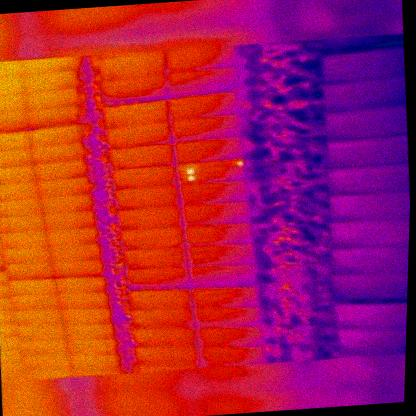Hotspot: (176, 155, 248, 186)
Normal: (168, 111, 244, 145), (162, 43, 239, 76), (104, 118, 176, 152), (188, 258, 262, 290), (179, 198, 255, 228), (181, 220, 255, 250), (102, 99, 171, 131), (108, 162, 180, 192), (117, 224, 187, 254), (191, 302, 263, 330), (129, 304, 194, 332), (124, 264, 192, 289), (22, 86, 81, 114), (39, 190, 97, 218), (34, 158, 90, 184), (46, 224, 101, 249), (7, 274, 60, 299), (53, 256, 106, 280), (19, 336, 71, 360), (60, 304, 113, 327)
Shadow: (319, 44, 406, 87), (320, 103, 408, 144), (318, 76, 407, 113), (324, 161, 411, 198), (327, 213, 410, 251), (330, 267, 408, 306), (331, 295, 407, 332)
